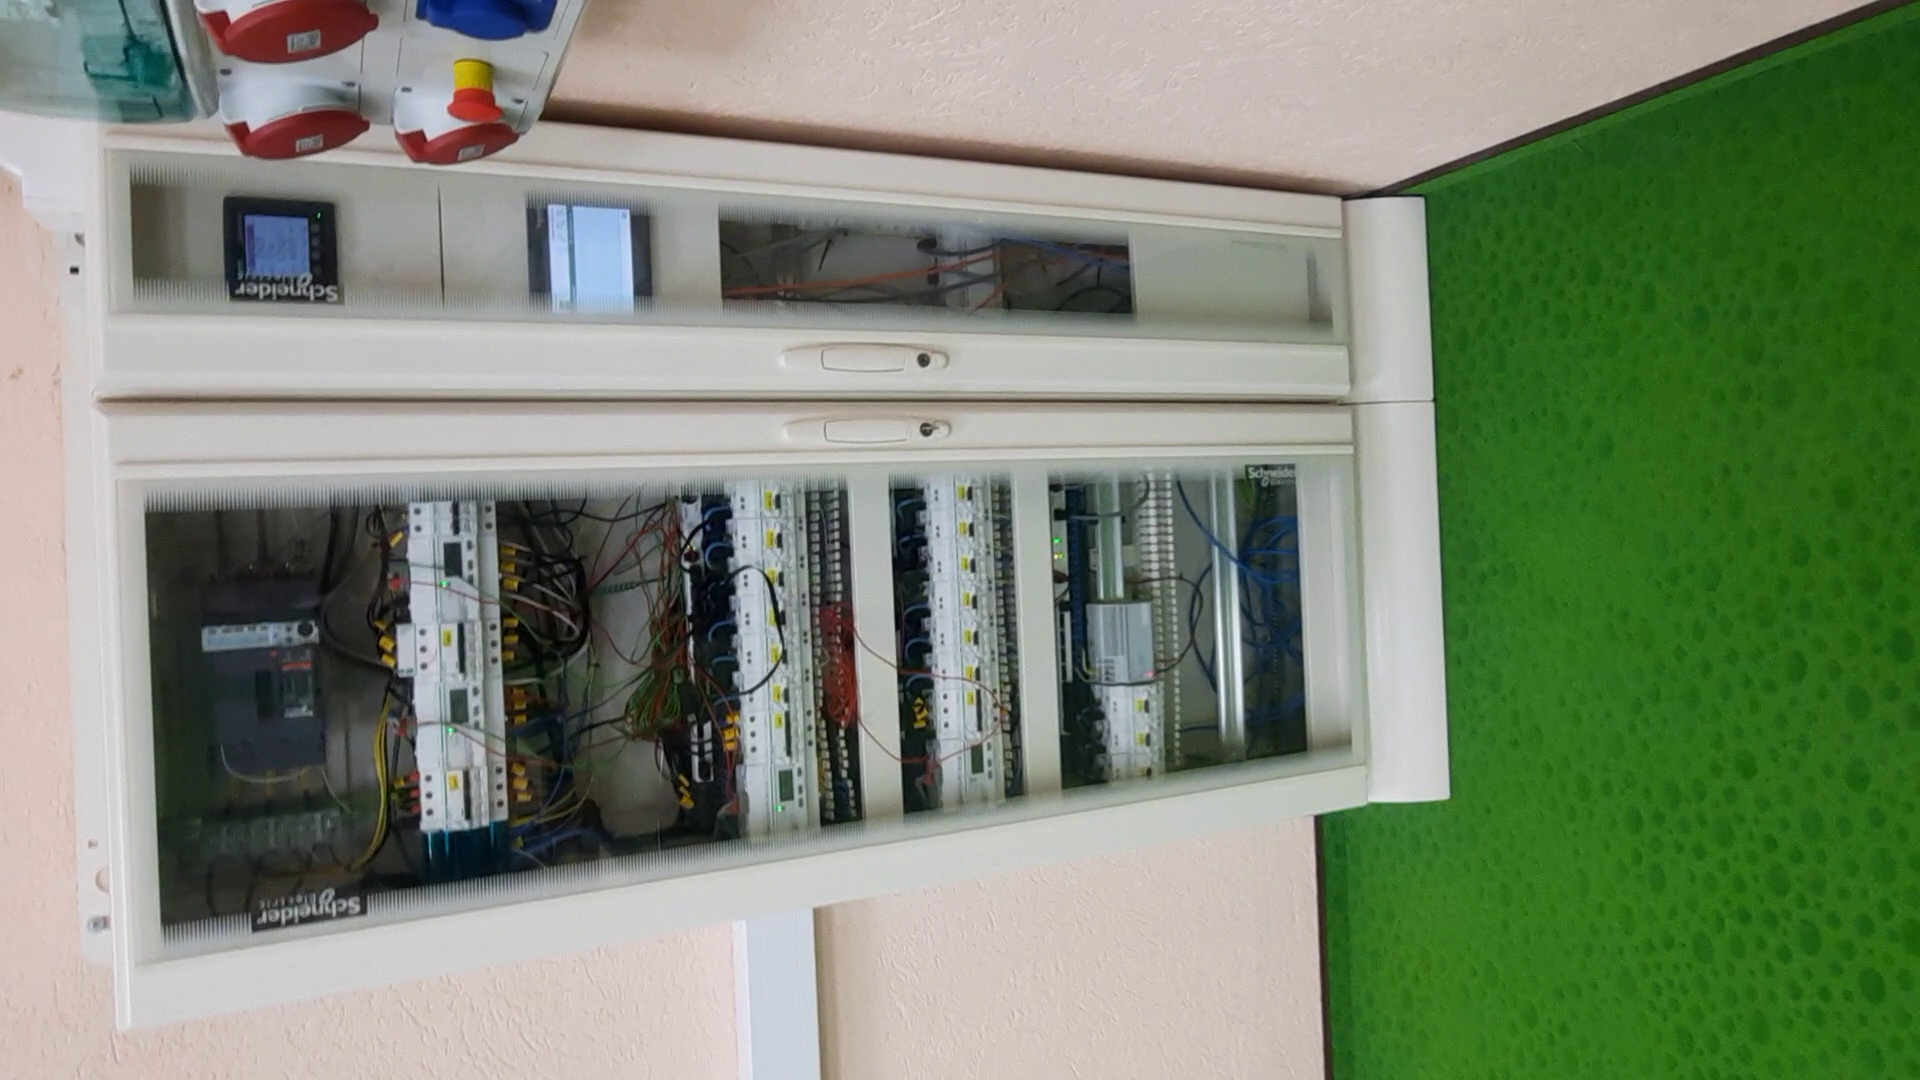stand1: (90, 153, 1457, 1036)
